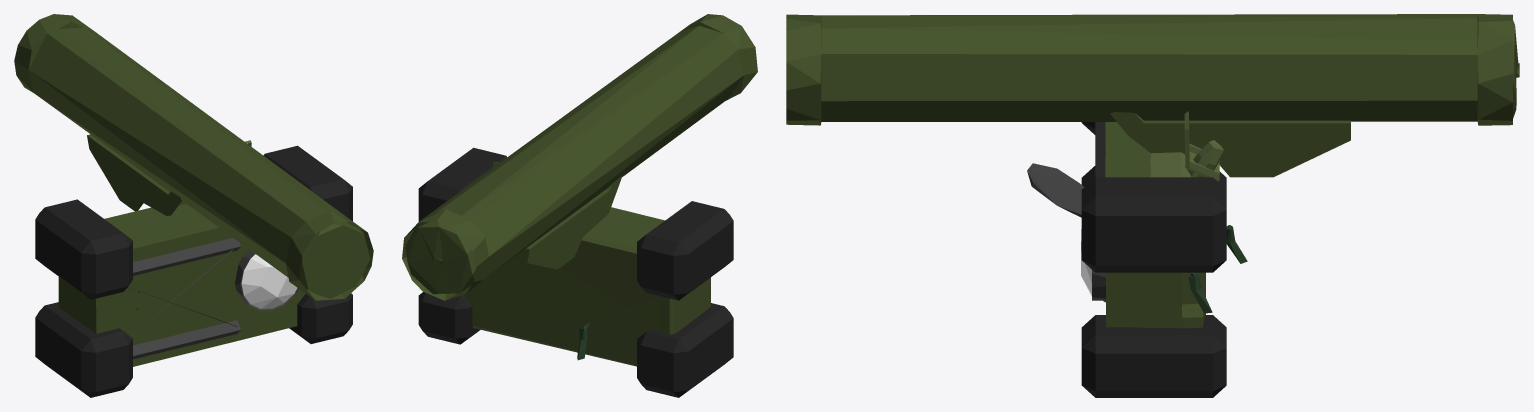
The model's file is rbs70_WEAPON_scaled_1_5_(MIN).glb.
3 renders of one model, left to right at view 1: azimuth 30°, elevation 25°; view 2: azimuth 150°, elevation 25°; view 3: azimuth 270°, elevation 25°, orthographic. The views are drawn at different scales.
Visible parts, largest first — view 1: WEAPON MASTER; view 2: WEAPON MASTER; view 3: WEAPON MASTER.
Part boxes in pixels (box(x1,y1,x2,y2)): WEAPON MASTER: box(14, 14, 373, 397); WEAPON MASTER: box(402, 14, 757, 397); WEAPON MASTER: box(786, 14, 1519, 397).
Bounding box in the file's own units: 5.8 × 4.79 × 10.62.
Materials: 3 (2 with a texture image).
